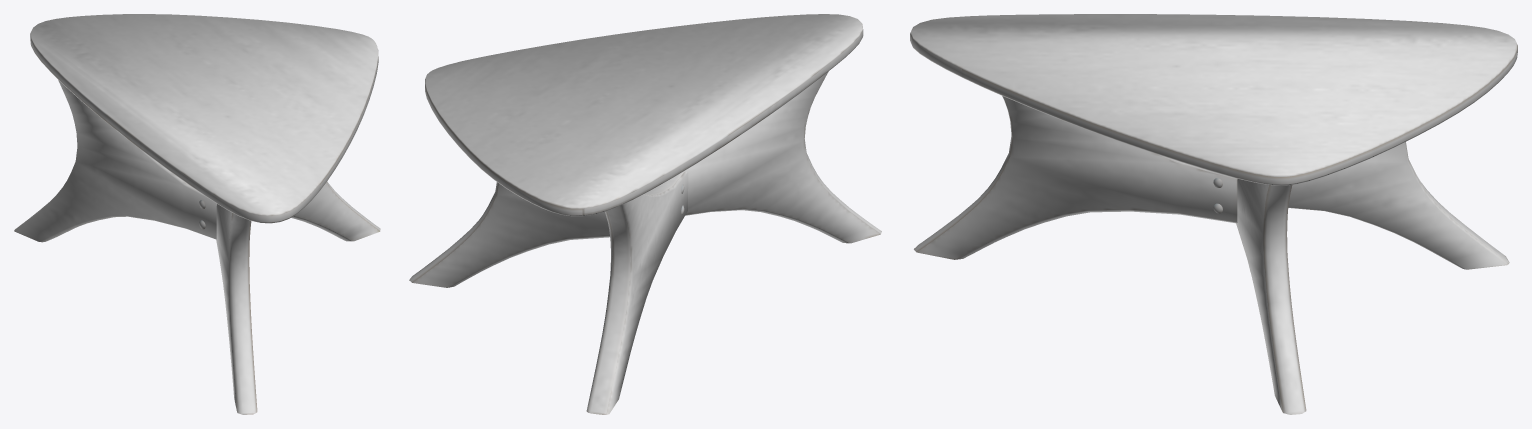
File: EE_Corner_Table_02.gltf
The picture shows the model from 3 angles, left to right: view 1: azimuth 30°, elevation 25°; view 2: azimuth 150°, elevation 25°; view 3: azimuth 270°, elevation 25°; orthographic projection. The views are drawn at different scales.
Parts seen in each view (by area): view 1: EE_Corner_Table_02.001; view 2: EE_Corner_Table_02.001; view 3: EE_Corner_Table_02.001.
Boxes of the visible parts, <box> form: EE_Corner_Table_02.001: <box>14,14,380,414</box>; EE_Corner_Table_02.001: <box>409,14,881,414</box>; EE_Corner_Table_02.001: <box>910,14,1517,414</box>.
Size of what is drawn, in the model's own units: 0.7308 by 0.4614 by 1.09.
1 material, 1 textured.
